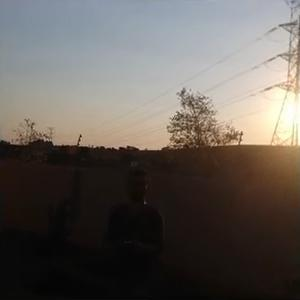follow: (98, 158, 167, 298)
